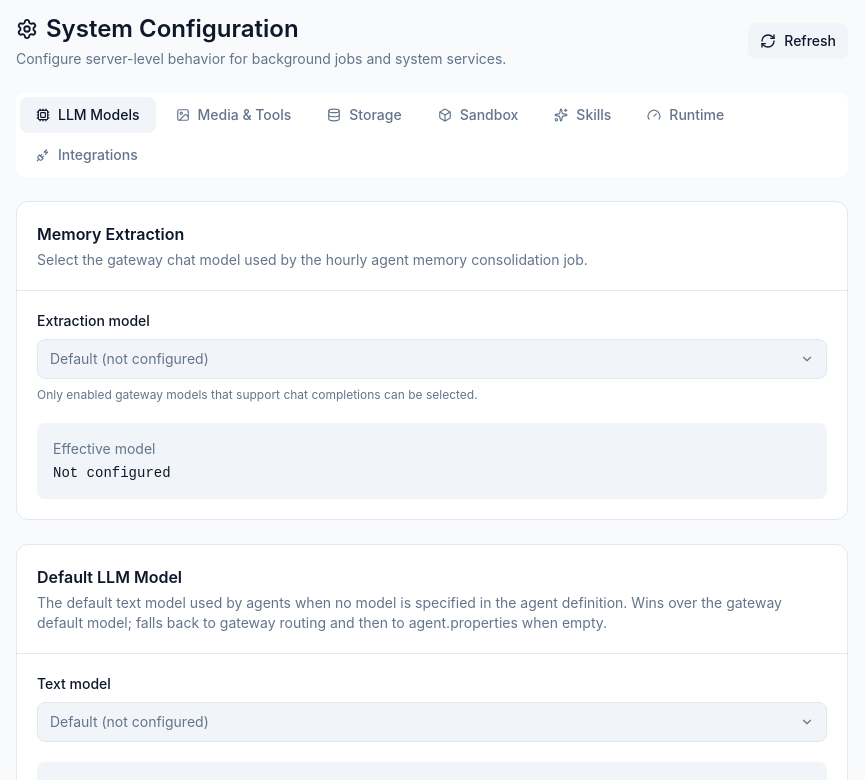
Test case: SystemSettings trace archive interval › defaults to one day when unset
The image size is (865, 780).
Click the button "Storage" at point(364, 115), box [311,97,418,133]
(page scrolled)
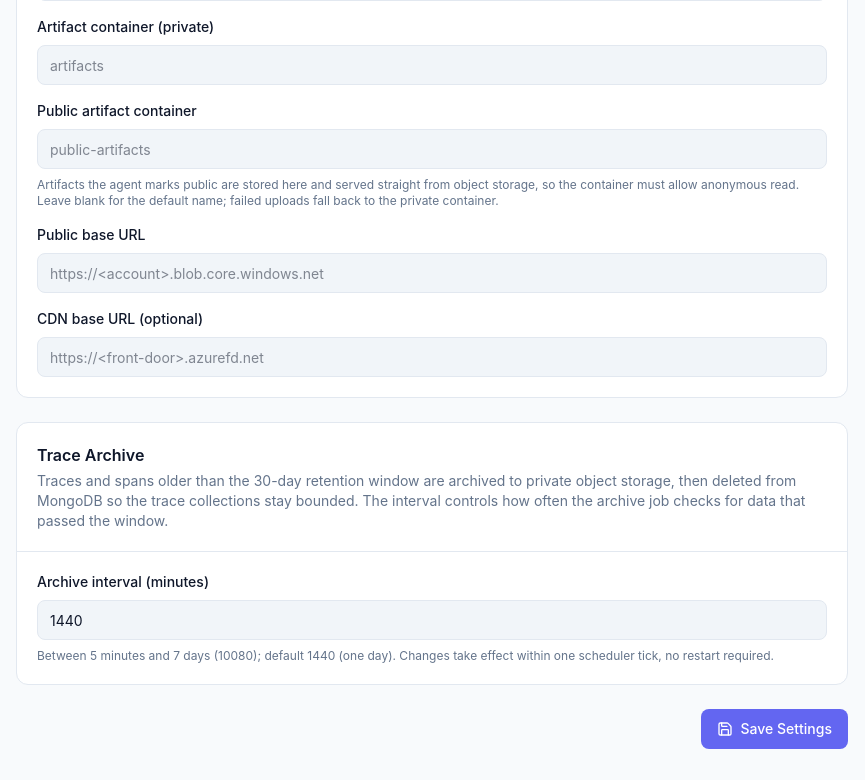
expect the number field labelled "Archive interval" holds "1440": met, box [37,600,827,640]
